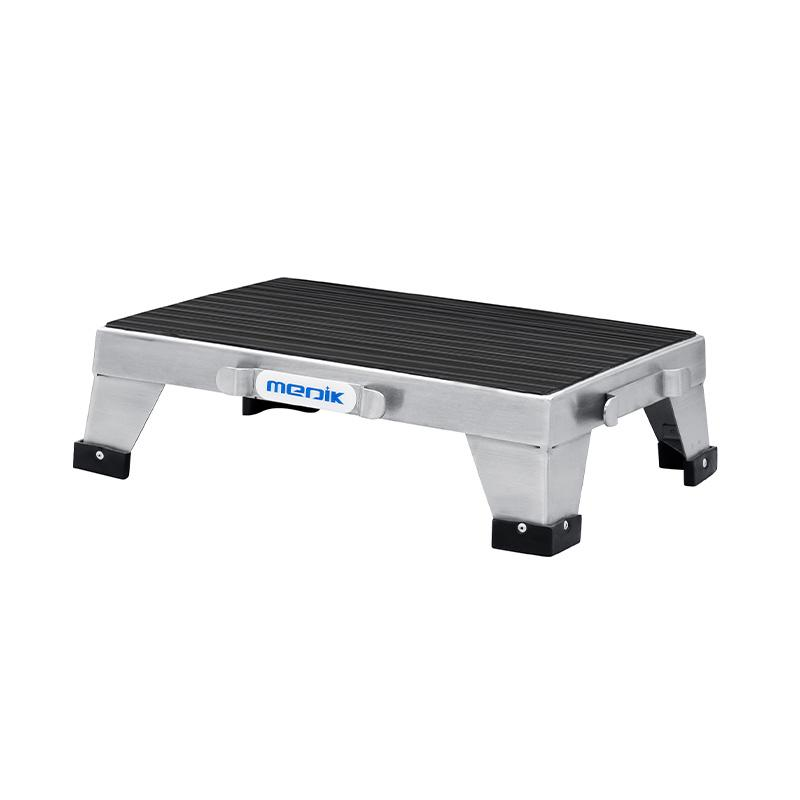stool: (80, 276, 757, 563)
